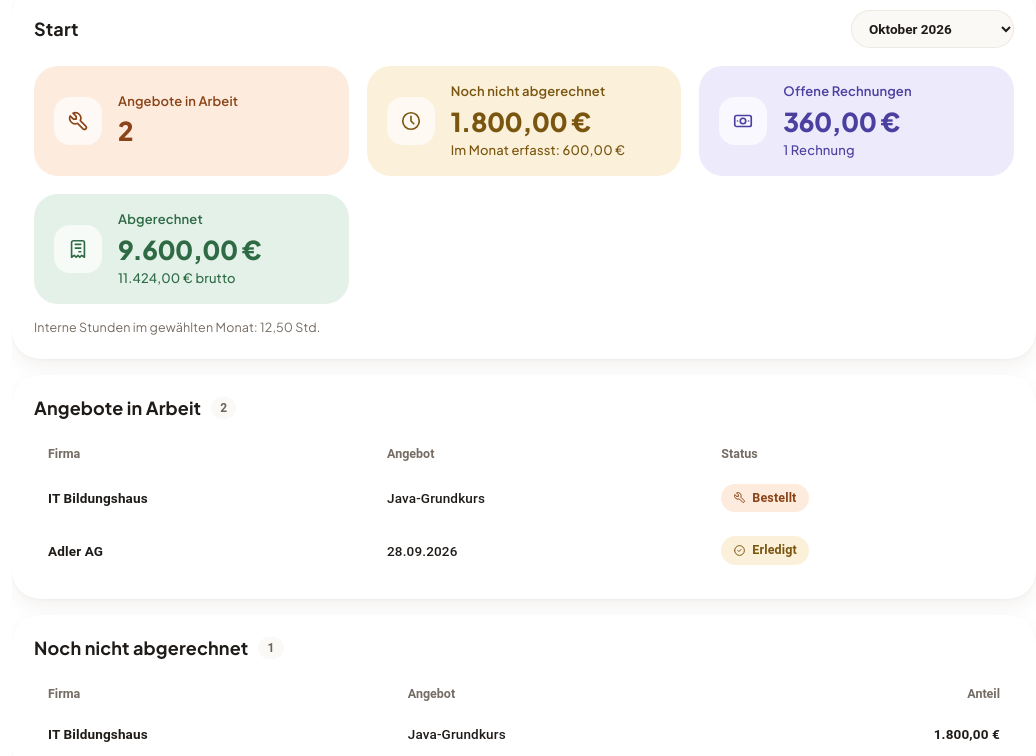
Test: StartseitePage (Issue #216; #206 Kriterien 1, 3 bis 8) › schreibt den gewaehlten Monat in die Adresse und laedt ihn neu
Select "September 2026" in the dropdown named "Zeitraum" at (932, 29), box [851,10,1014,48]
(page scrolled)
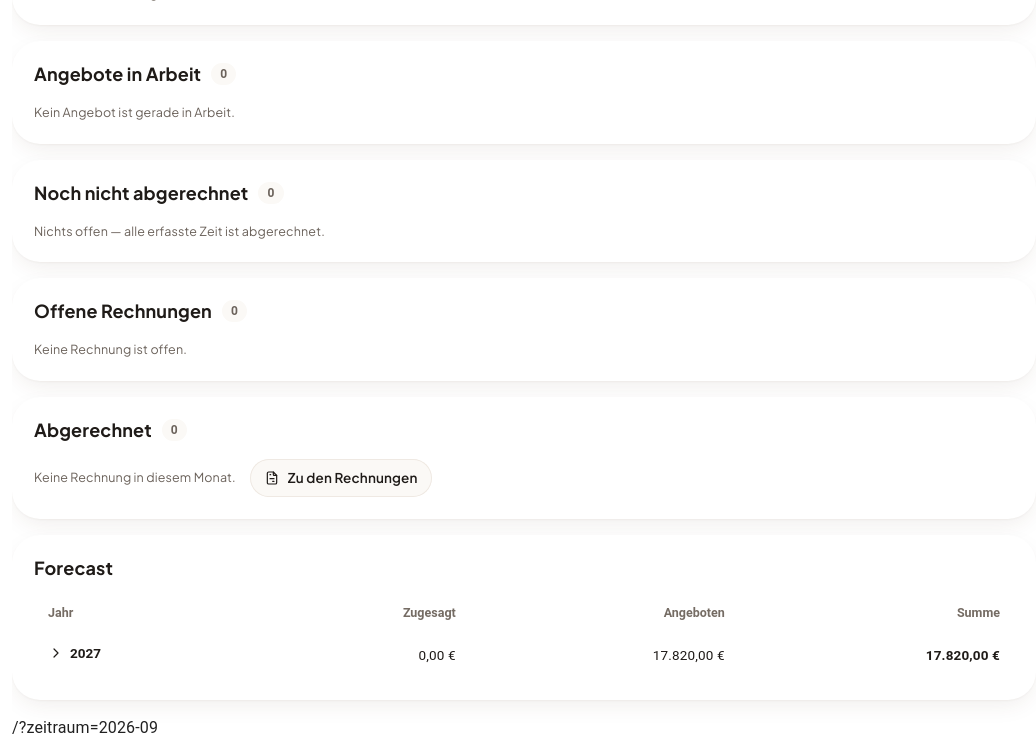
Expected: the text with test id "adresse" reads "/?zeitraum=2026-09", [12,718,158,737]
Expected: the text "Keine Rechnung in diesem Monat." is shown, [34,468,236,487]
